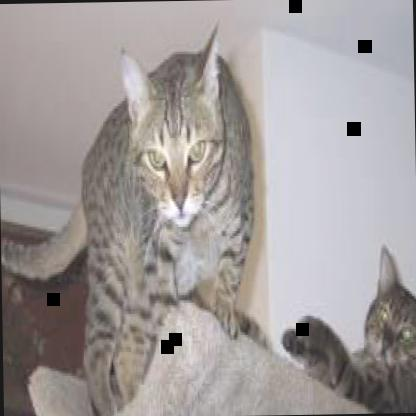cat: (0, 21, 263, 415), (280, 245, 415, 413)
